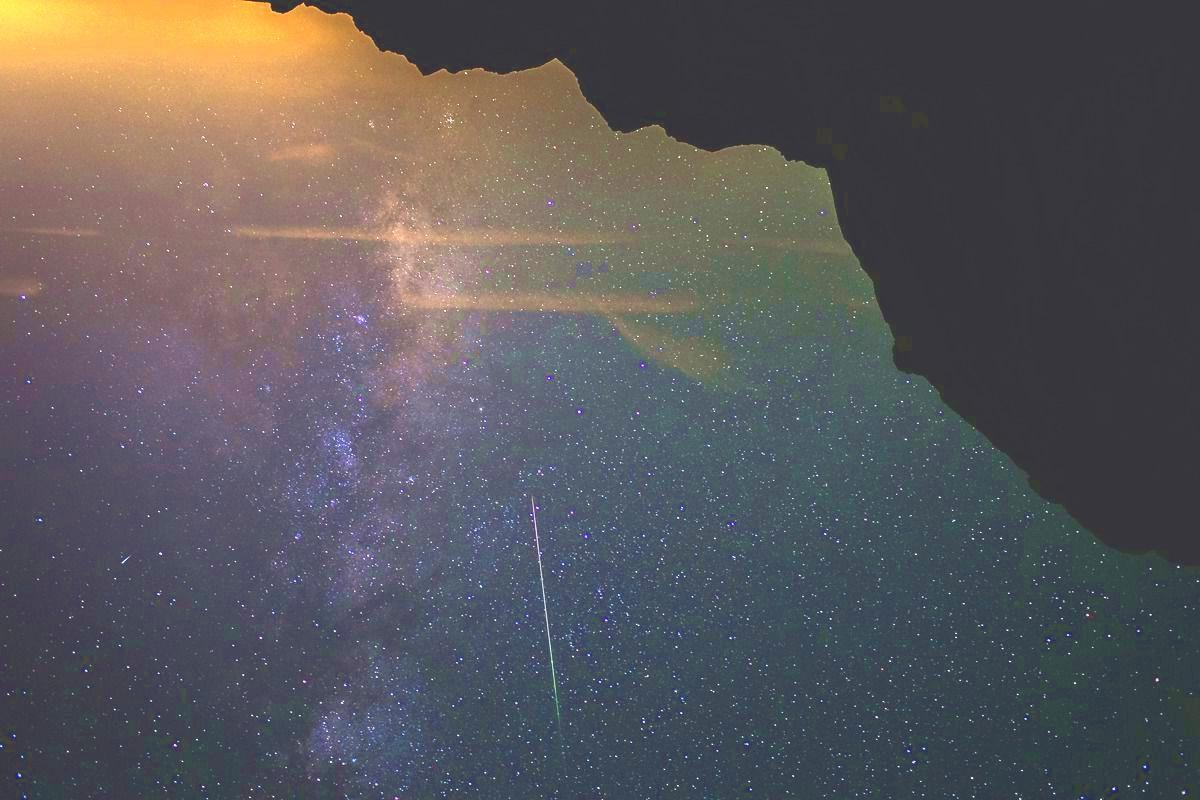meteorite: (508, 481, 579, 730), (109, 551, 143, 567)
